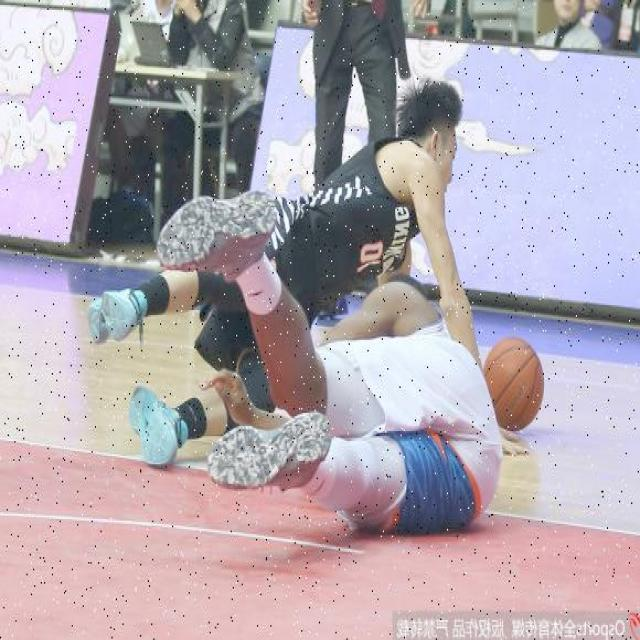fall: (238, 282, 492, 532)
